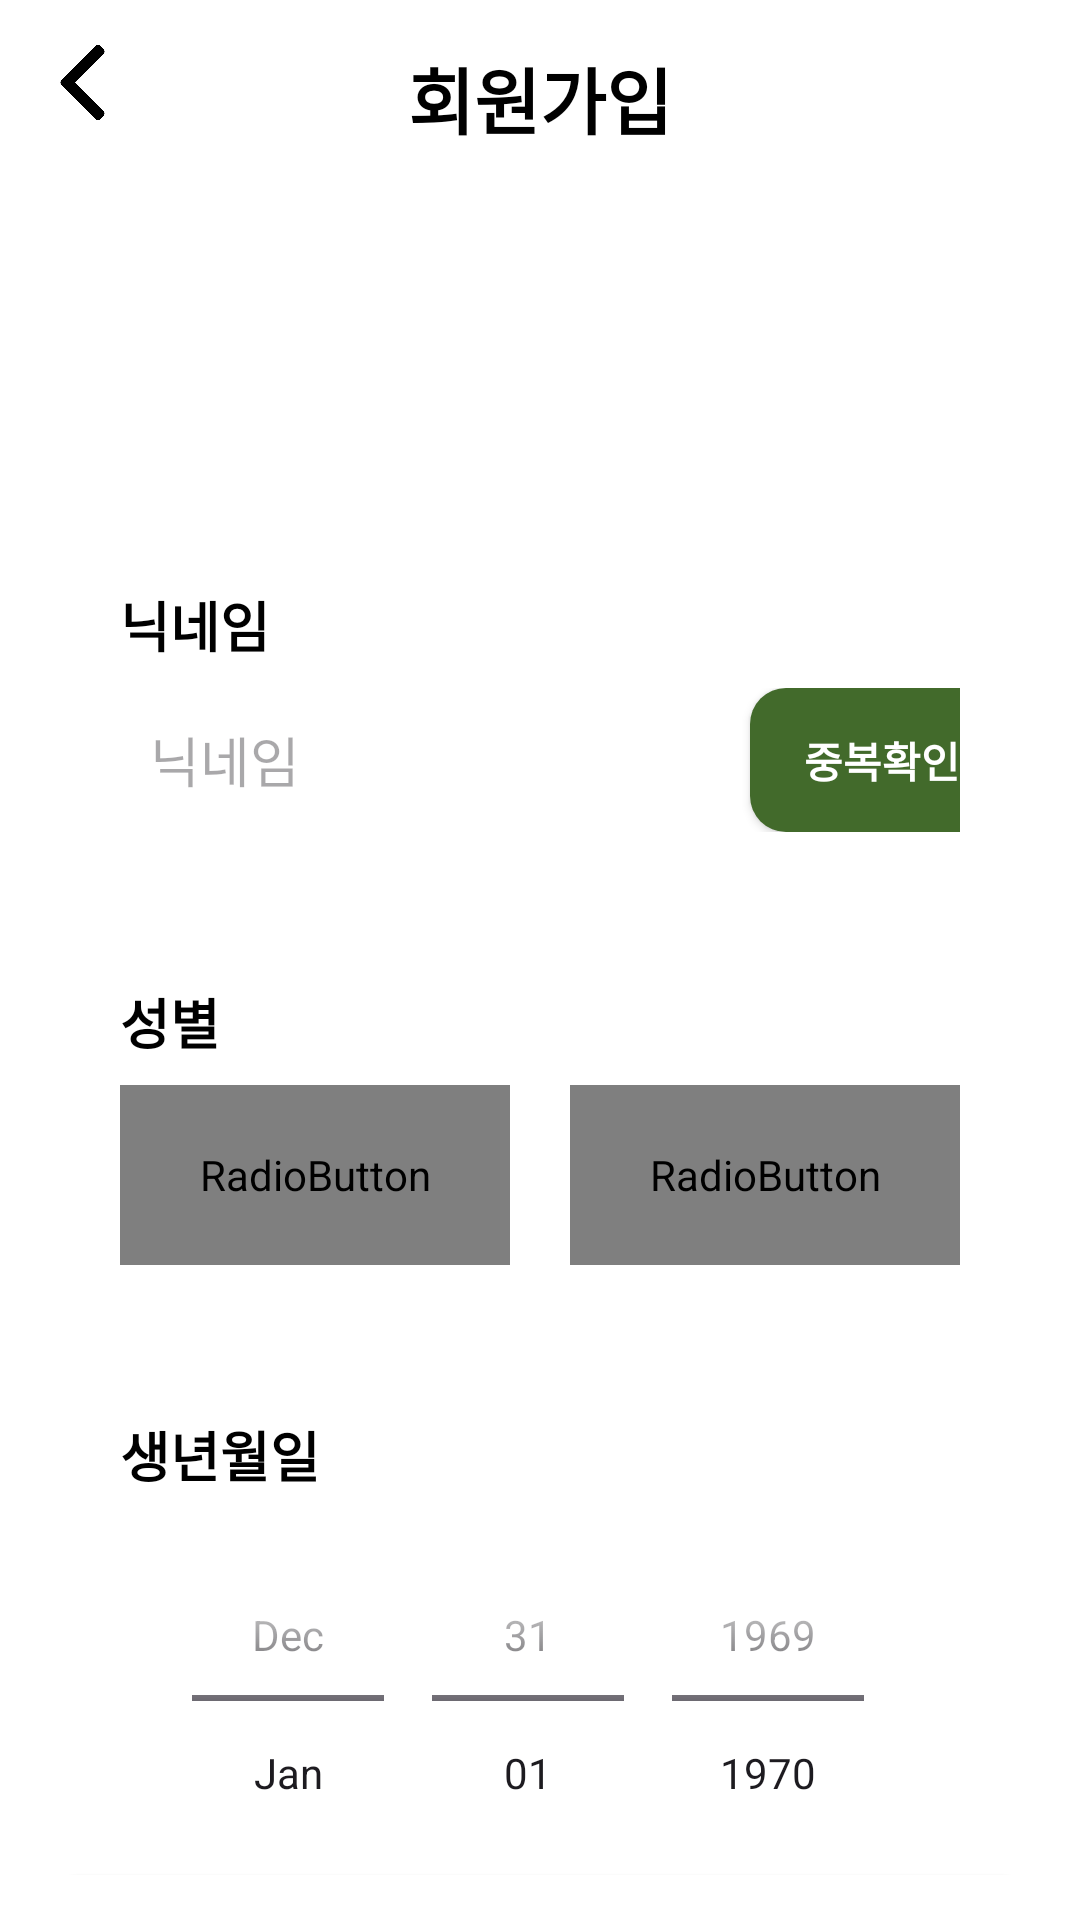

Where icons sit on this 1080 × 1920 app screen, as (x1, y1, x2, y2):
left arrow: (60, 45, 105, 120)
